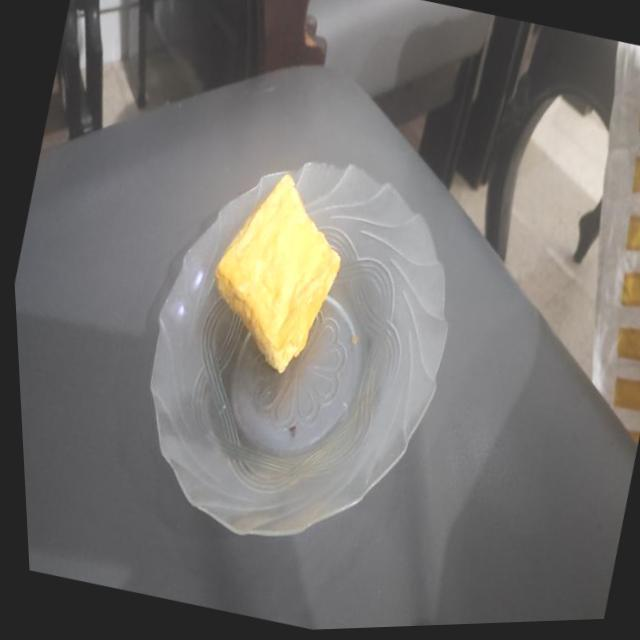tahu_goreng: (214, 174, 340, 372)
